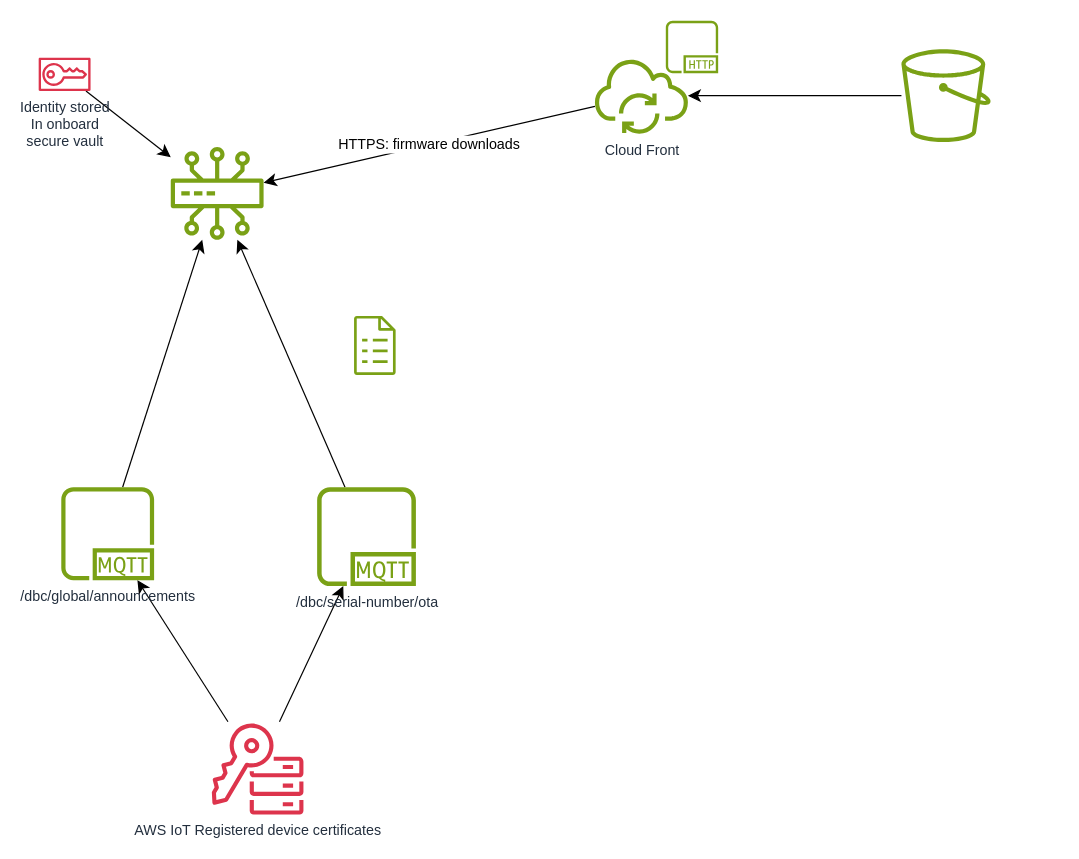
Some shapes in this 1079 by 859 pixel diagram are drawn without their labels. Each missing label, with the box of its shape:
dbc-firmware /smart-vac-gauge/<build>/m[74].ota: (901, 49, 990, 141)
smart-vac-gauge: (170, 146, 263, 239)
update-evaiilable: (353, 315, 395, 374)
